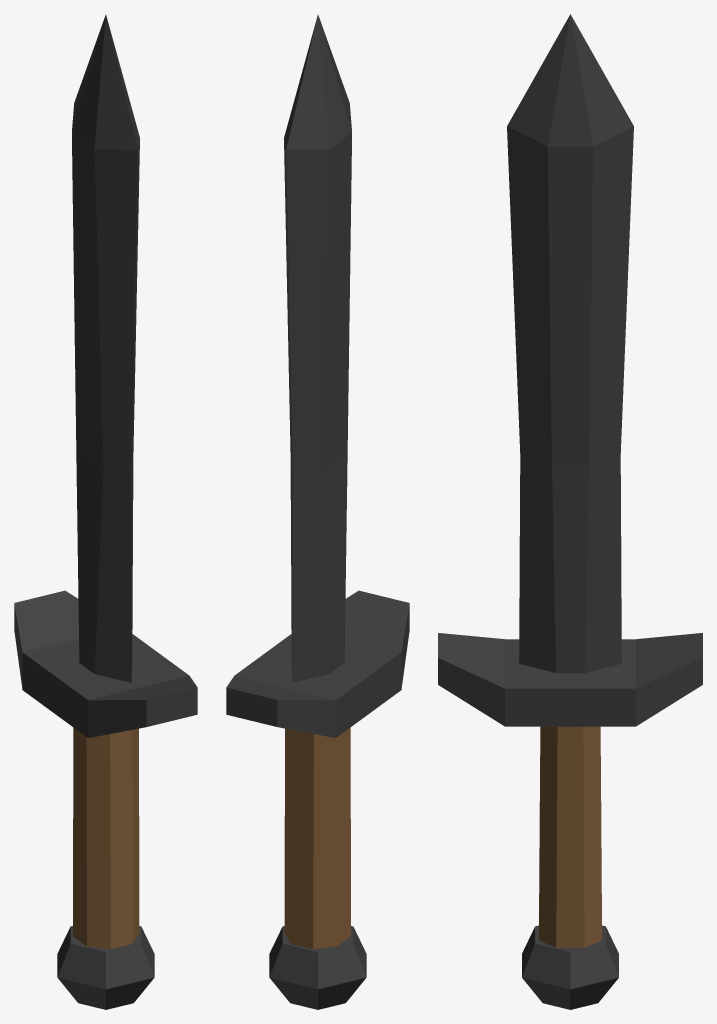
Rendered from MetelSword.fbx.
3 views of the same model, side by side, from view 1: azimuth 30°, elevation 25°; view 2: azimuth 150°, elevation 25°; view 3: azimuth 270°, elevation 25° (orthographic).
Parts seen in each view (by area): view 1: metelSword.001; view 2: metelSword.001; view 3: metelSword.001.
Part boxes in pixels (x1=…): metelSword.001: x1=14, y1=14, x2=197, y2=1009; metelSword.001: x1=226, y1=14, x2=409, y2=1009; metelSword.001: x1=438, y1=14, x2=702, y2=1009.
Size of the model in its own units: 13.14 by 122 by 29.76.
